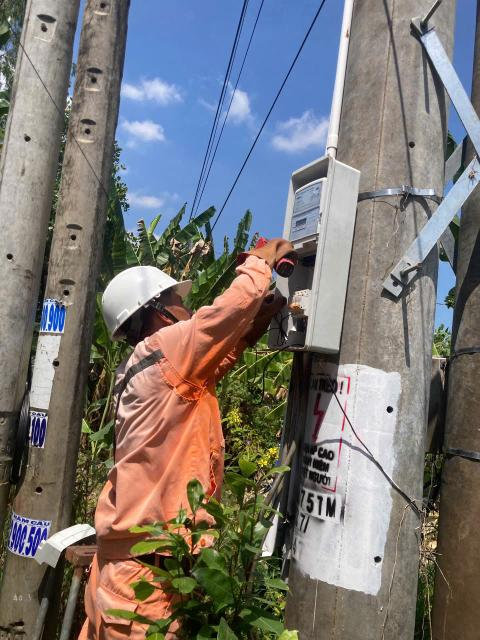gloves: (241, 226, 303, 279)
helmet: (91, 263, 207, 334)
